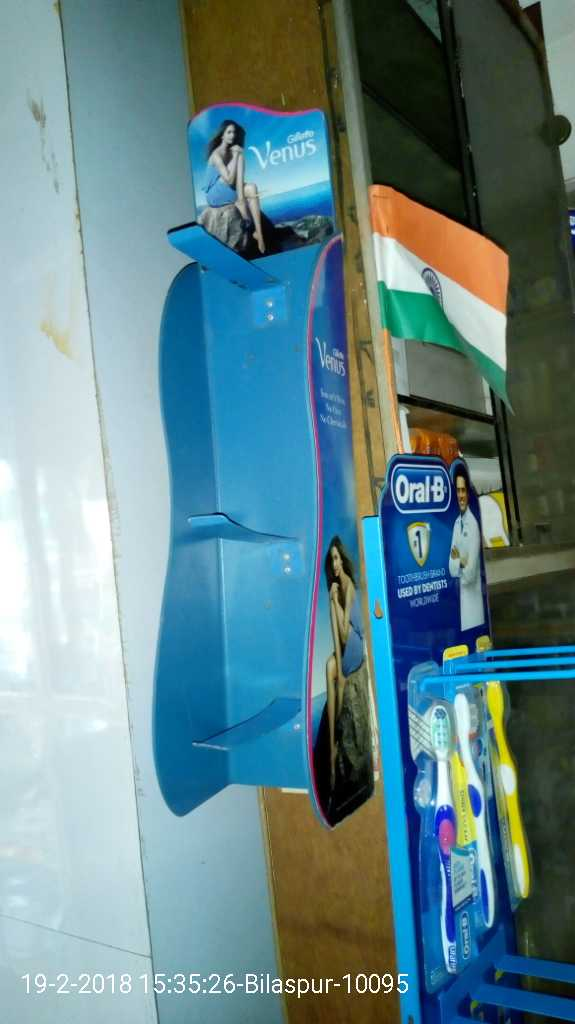oralb: (400, 675, 469, 978), (452, 671, 500, 942)
